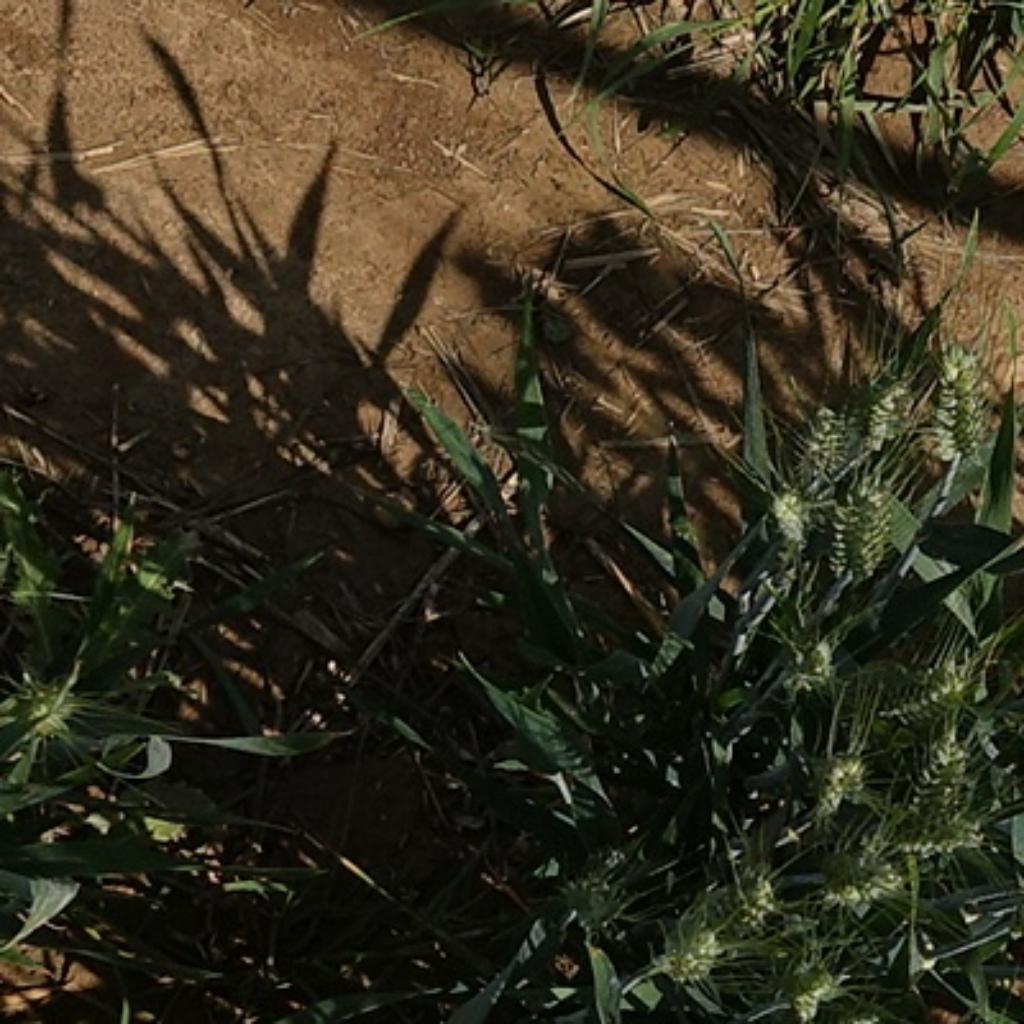0-0: (814, 463, 906, 581), (922, 332, 992, 483), (875, 648, 990, 726), (887, 725, 972, 829), (696, 860, 796, 942), (859, 813, 994, 868), (773, 611, 850, 693), (765, 944, 849, 1018), (817, 857, 901, 929), (793, 399, 855, 494), (747, 479, 818, 561), (807, 747, 880, 823), (645, 913, 721, 980), (562, 873, 637, 936), (15, 681, 83, 748), (862, 380, 915, 455)
